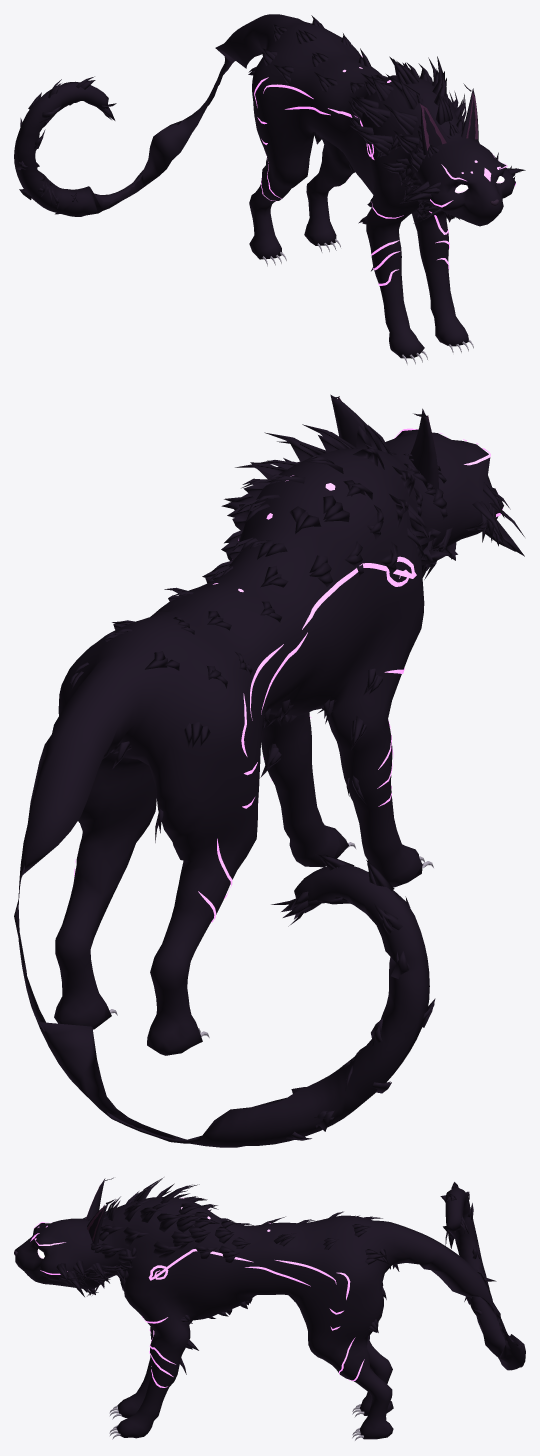
Rendered from kucing_bayang_roblox.fbx.
3 renders of one model, top to bottom at view 1: azimuth 30°, elevation 25°; view 2: azimuth 150°, elevation 25°; view 3: azimuth 270°, elevation 25°, orthographic. The views are drawn at different scales.
Visible parts, largest first — view 1: Cat_Body, Cat_Fur_Mane, Cat_Fur_Back, Cat_Fur_Head, Cat_Glow_Markings, Cat_Ears, Cat_Fur_Tail, Cat_EarsInner, Cat_Fur_Chest; view 2: Cat_Body, Cat_Fur_Mane, Cat_Fur_Tail, Cat_Glow_Markings, Cat_Fur_Back, Cat_Fur_Head, Cat_Ears, Cat_Fur_Legs; view 3: Cat_Body, Cat_Fur_Mane, Cat_Glow_Markings, Cat_Fur_Head, Cat_Fur_Back, Cat_Fur_Tail, Cat_Ears, Cat_Fur_Legs, Cat_Claws.
Part boxes in pixels (bbox=[...]): Cat_Body: bbox=[14, 14, 515, 358]; Cat_Fur_Mane: bbox=[347, 56, 466, 173]; Cat_Fur_Back: bbox=[262, 15, 371, 93]; Cat_Fur_Head: bbox=[395, 83, 525, 223]; Cat_Glow_Markings: bbox=[254, 55, 515, 285]; Cat_Ears: bbox=[421, 88, 478, 155]; Cat_Fur_Tail: bbox=[16, 76, 116, 214]; Cat_EarsInner: bbox=[420, 93, 477, 150]; Cat_Fur_Chest: bbox=[377, 134, 430, 218]; Cat_Body: bbox=[14, 429, 503, 1147]; Cat_Fur_Mane: bbox=[202, 421, 448, 586]; Cat_Fur_Tail: bbox=[271, 854, 435, 1140]; Cat_Glow_Markings: bbox=[74, 428, 502, 922]; Cat_Fur_Back: bbox=[70, 565, 288, 689]; Cat_Fur_Head: bbox=[333, 396, 524, 579]; Cat_Ears: bbox=[330, 394, 438, 489]; Cat_Fur_Legs: bbox=[76, 668, 383, 842]; Cat_Body: bbox=[15, 1187, 525, 1439]; Cat_Fur_Mane: bbox=[99, 1177, 239, 1269]; Cat_Glow_Markings: bbox=[33, 1197, 364, 1387]; Cat_Fur_Head: bbox=[56, 1177, 126, 1296]; Cat_Fur_Back: bbox=[231, 1211, 386, 1264]; Cat_Fur_Tail: bbox=[440, 1182, 496, 1319]; Cat_Ears: bbox=[86, 1178, 108, 1246]; Cat_Fur_Legs: bbox=[180, 1248, 399, 1374]; Cat_Claws: bbox=[109, 1404, 364, 1440].
Bounding box in the file's own units: 0.8265 × 0.739 × 1.43.
